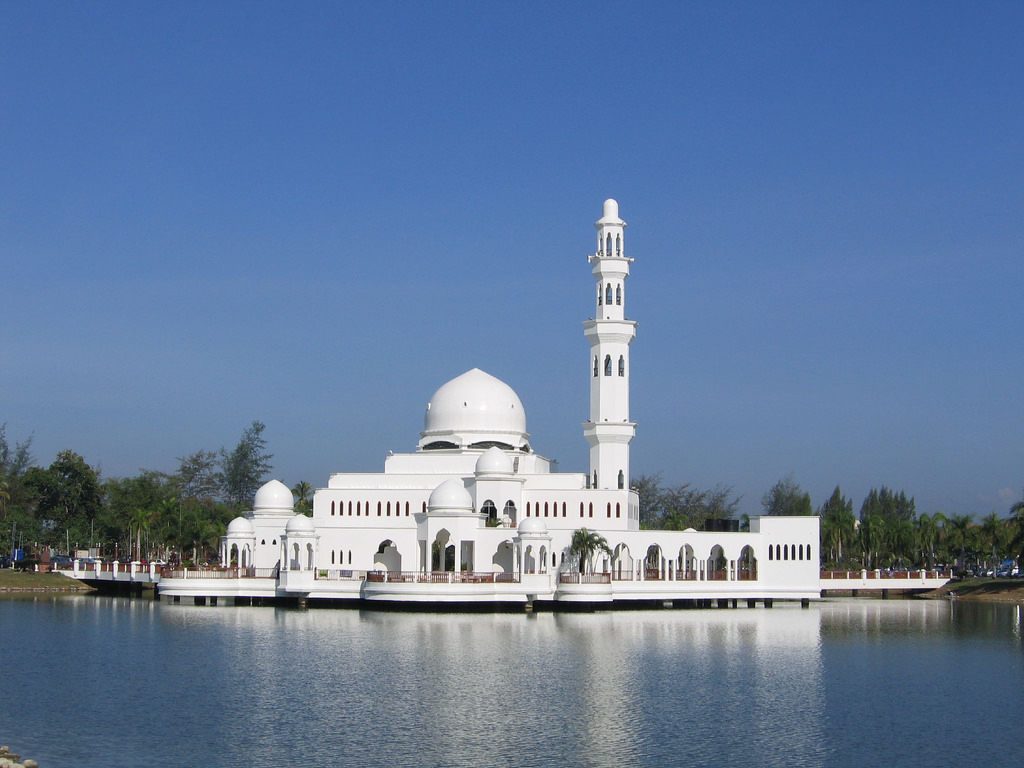Mosque: (248, 193, 812, 610)
